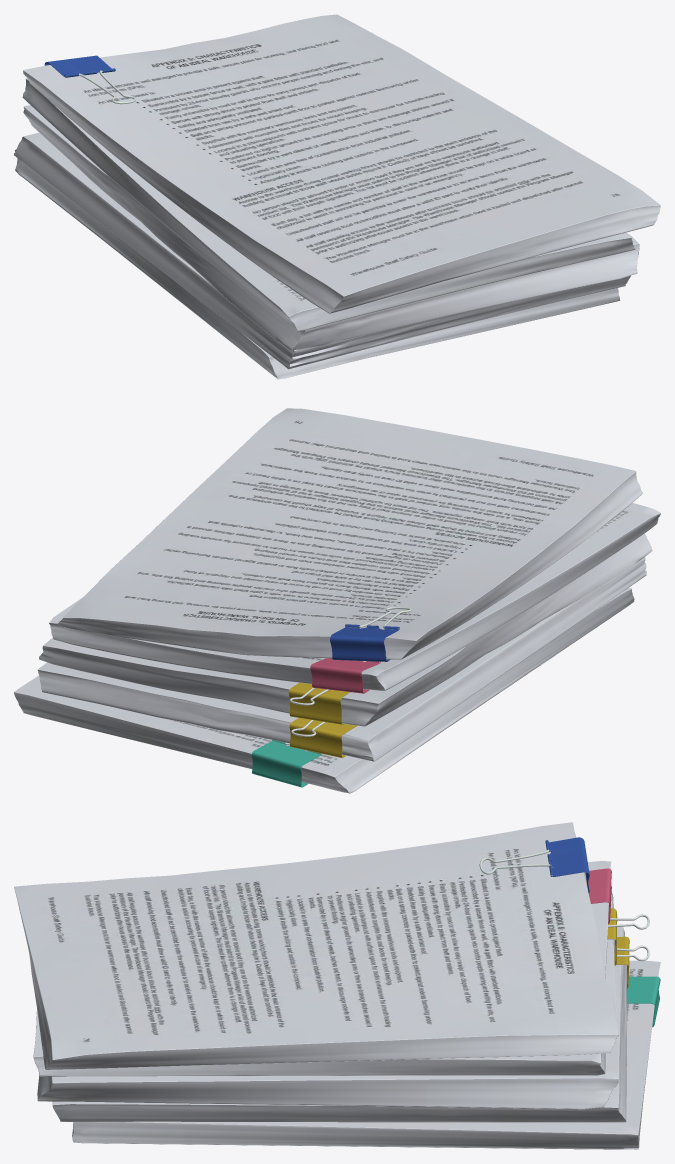
Rendered from paper_stack_a04.glb.
3 renders of one model, top to bottom at view 1: azimuth 30°, elevation 25°; view 2: azimuth 150°, elevation 25°; view 3: azimuth 270°, elevation 25°, orthographic. The views are drawn at different scales.
Visible parts, largest first — view 1: sm_paper1_a04_mesh_00, sm_paper3_a04_mesh_00.001, sm_paper2_a04_mesh_00, sm_paper4_a04_mesh_00, sm_paper5_a04_mesh_00; view 2: sm_paper1_a04_mesh_00, sm_paper4_a04_mesh_00, sm_paper3_a04_mesh_00.001, sm_paper5_a04_mesh_00, sm_paper2_a04_mesh_00; view 3: sm_paper1_a04_mesh_00, sm_paper3_a04_mesh_00.001, sm_paper5_a04_mesh_00, sm_paper4_a04_mesh_00, sm_paper2_a04_mesh_00.
Part boxes in pixels (x1,y1,x2,y2): sm_paper1_a04_mesh_00: (23, 14, 660, 313); sm_paper3_a04_mesh_00.001: (23, 105, 639, 350); sm_paper2_a04_mesh_00: (22, 33, 635, 331); sm_paper4_a04_mesh_00: (14, 132, 630, 369); sm_paper5_a04_mesh_00: (15, 158, 620, 379); sm_paper1_a04_mesh_00: (57, 408, 642, 661); sm_paper4_a04_mesh_00: (37, 557, 646, 761); sm_paper3_a04_mesh_00.001: (39, 533, 652, 736); sm_paper5_a04_mesh_00: (14, 587, 634, 793); sm_paper2_a04_mesh_00: (49, 503, 660, 693); sm_paper1_a04_mesh_00: (14, 822, 618, 1069); sm_paper3_a04_mesh_00.001: (37, 891, 649, 1109); sm_paper5_a04_mesh_00: (72, 960, 660, 1149); sm_paper4_a04_mesh_00: (52, 926, 629, 1122); sm_paper2_a04_mesh_00: (33, 861, 611, 1076).
Size of the model in its own units: 0.2397 by 0.0834 by 0.3399.
Materials: 2 (2 with a texture image).
